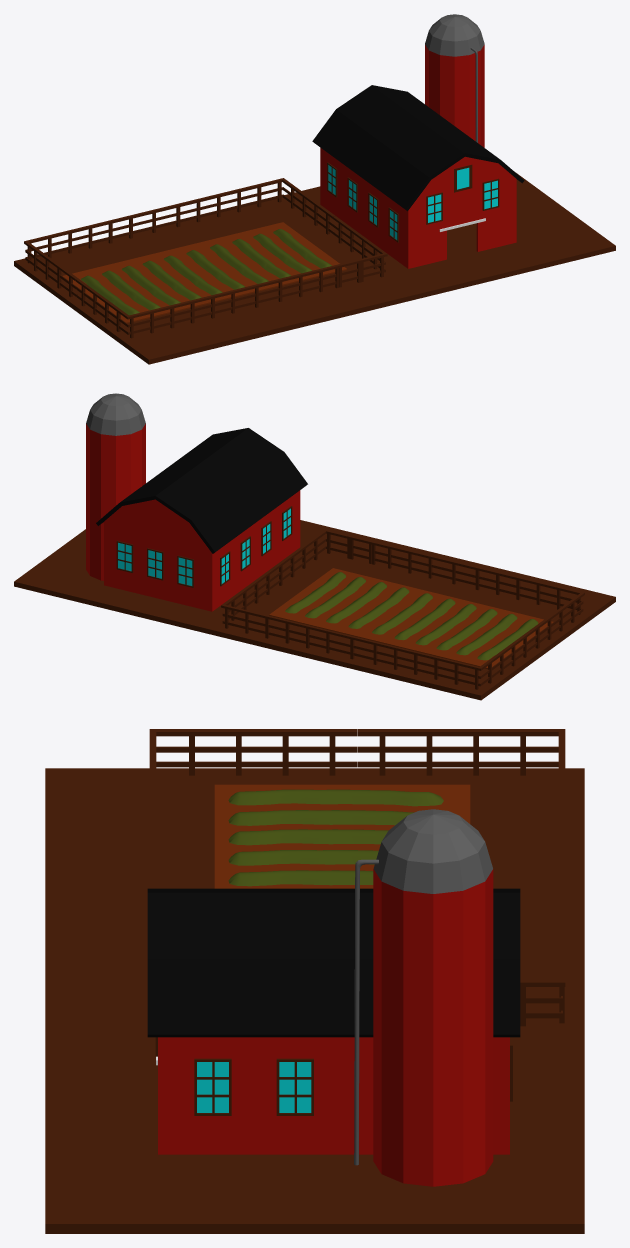
The model's file is GranjaTexture.FBX.
The picture shows the model from 3 angles, top to bottom: view 1: azimuth 30°, elevation 25°; view 2: azimuth 150°, elevation 25°; view 3: azimuth 270°, elevation 25°; orthographic projection. The views are drawn at different scales.
Parts seen in each view (by area): view 1: Box014, Box015, Railing003, Box016, Sphere001, Plane008, Plane011, Plane003, Plane004, Plane007, Plane002, Plane005 (+3 smaller); view 2: Box015, Box014, Railing003, Box016, Sphere001, Plane002, Plane006, Plane007, Plane004, Plane011, Plane003, Plane005 (+3 smaller); view 3: Box014, Box015, Sphere001, Railing003, Box016, Plane012, Plane011, Plane010, Plane008, Plane007, Line001.
Part boxes in pixels (x1,y1,x2,y2): Box014: (14,172,615,364); Box015: (312,85,524,268); Railing003: (24,178,387,338); Box016: (63,222,346,323); Sphere001: (425,14,484,147); Plane008: (142,260,201,300); Plane011: (102,270,160,310); Plane003: (253,233,311,273); Plane004: (232,239,290,278); Plane007: (164,255,222,295); Plane002: (273,229,331,268); Plane005: (210,244,268,283); Box015: (96,428,307,611); Box014: (14,520,615,700); Railing003: (221,529,584,689); Box016: (269,568,553,669); Sphere001: (86,393,145,580); Plane002: (285,572,345,613); Plane006: (372,593,432,634); Plane007: (394,598,455,640); Plane004: (326,582,386,623); Plane011: (456,613,517,655); Plane003: (305,577,365,618); Plane005: (348,587,409,628); Box014: (45,768,584,1233); Box015: (147,888,520,1154); Sphere001: (373,809,493,1186); Railing003: (149,729,565,1026); Box016: (214,784,470,888); Plane012: (228,789,443,806); Plane011: (228,810,414,825); Plane010: (228,829,388,845); Plane008: (228,850,378,865); Plane007: (228,870,373,886); Line001: (354,859,378,1165).
Size of the model in its own units: 200 by 72.97 by 100.
